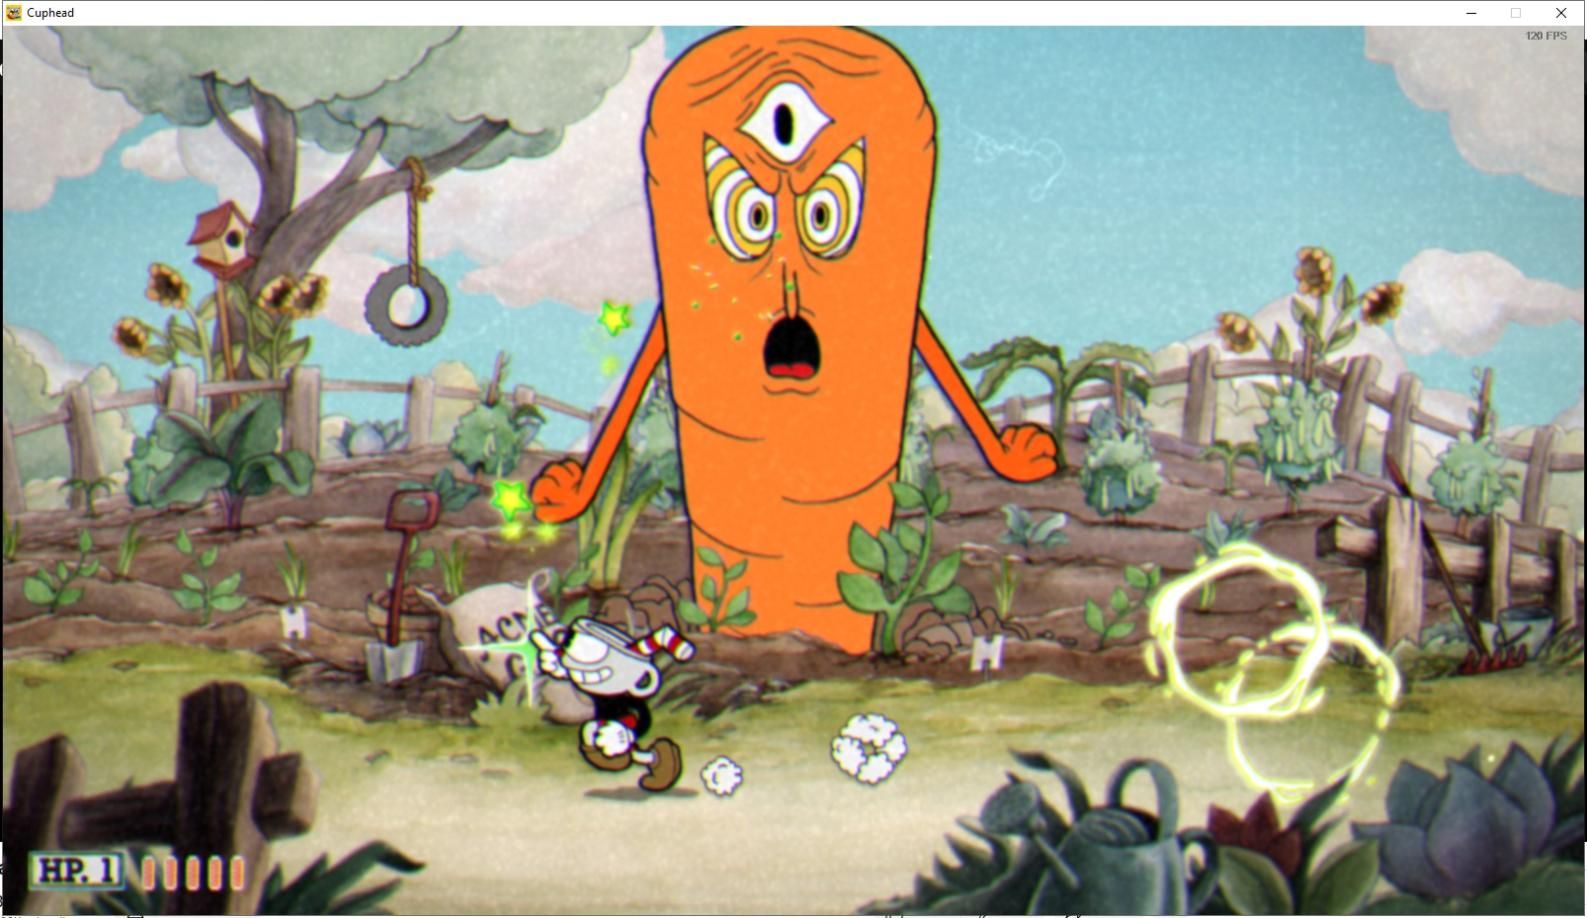hp1: (91, 847, 128, 894)
player: (528, 601, 709, 799)
ring: (1140, 532, 1346, 737), (1218, 610, 1412, 816)
